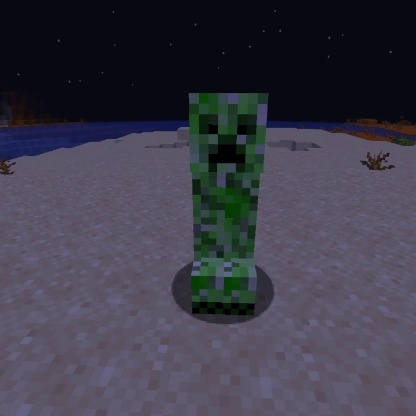creeper: (182, 89, 272, 321)
